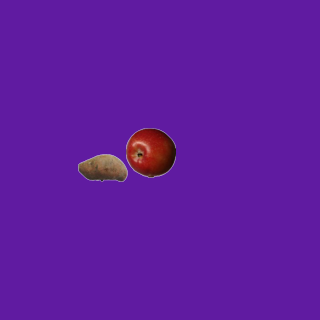Apple Braeburn: (125, 127, 175, 177)
Potato Sweet: (77, 142, 127, 192)
